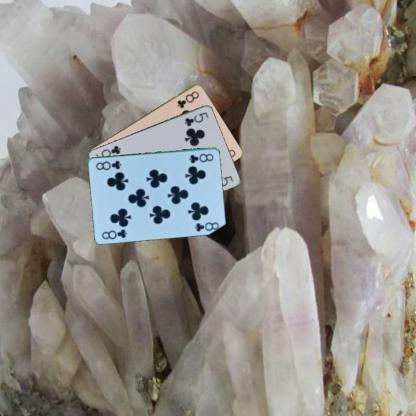5c: (182, 109, 210, 128)
8c: (174, 88, 200, 110), (100, 226, 128, 240), (187, 151, 215, 164)
